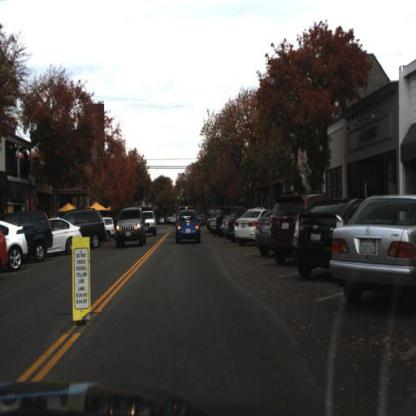car: (331, 194, 416, 309), (291, 193, 371, 283), (268, 190, 332, 270), (2, 211, 54, 262), (62, 205, 106, 252), (1, 219, 29, 276), (115, 203, 148, 250), (45, 218, 85, 255), (234, 207, 273, 242), (254, 204, 276, 260), (176, 209, 202, 242), (141, 207, 158, 239)
